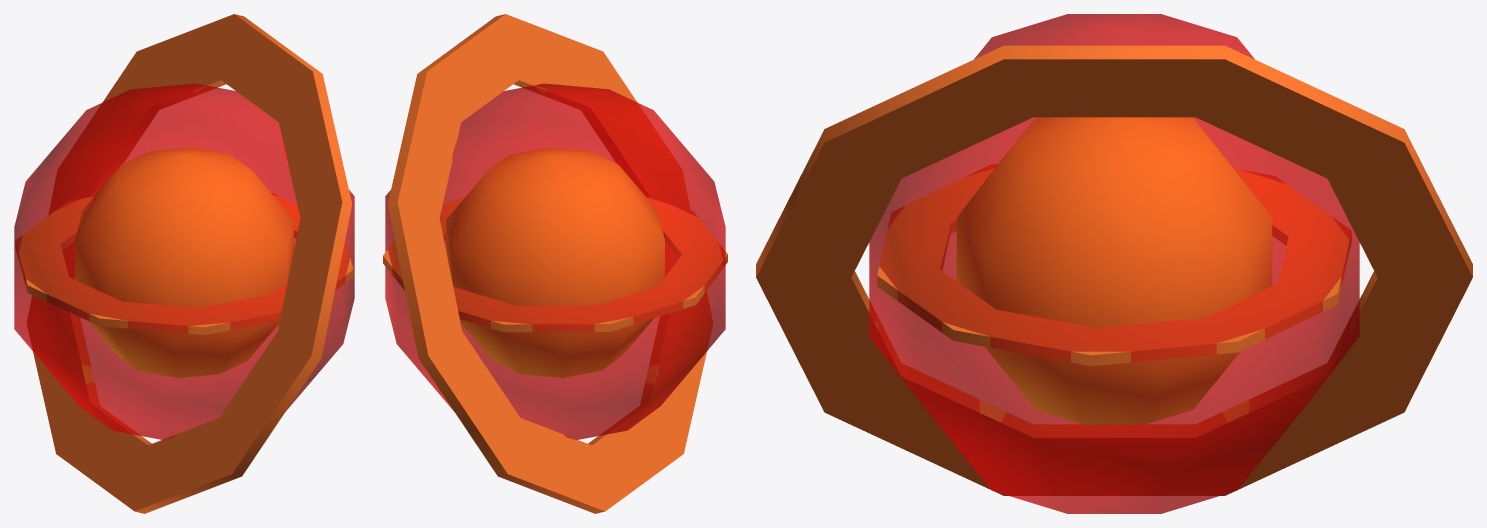
File: Enemy_Attack0.obj
The picture shows the model from 3 angles, left to right: view 1: azimuth 30°, elevation 25°; view 2: azimuth 150°, elevation 25°; view 3: azimuth 270°, elevation 25°; orthographic projection. The views are drawn at different scales.
Parts seen in each view (by area): view 1: Sphere002, Tube001, Sphere001, Tube002; view 2: Sphere002, Tube001, Sphere001, Tube002; view 3: Sphere002, Tube001, Sphere001, Tube002.
Part boxes in pixels (x1,y1,x2,y2): Sphere002: (14,83,354,439); Tube001: (27,14,352,513); Sphere001: (75,147,293,377); Tube002: (15,193,353,334); Sphere002: (385,83,725,439); Tube001: (387,14,712,513); Sphere001: (446,147,664,377); Tube002: (383,197,727,332); Sphere002: (869,14,1359,513); Tube001: (756,45,1472,495); Sphere001: (956,117,1272,424); Tube002: (877,164,1351,366).
Size of the model in its own units: 21.43 by 27.65 by 31.73.
